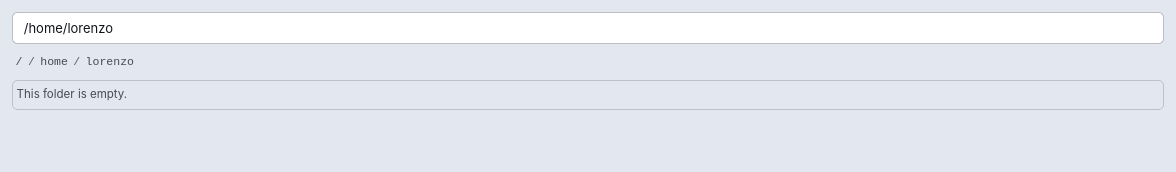
DirectoryPicker (SPEC §7.25 directory picker; issue #474) › typing a path and pressing Enter navigates there directly
Step 1. Replace the text in the field with test id "directory-picker-input" with "/etc" → {"x": 588, "y": 28}, box [12,12,1164,44]
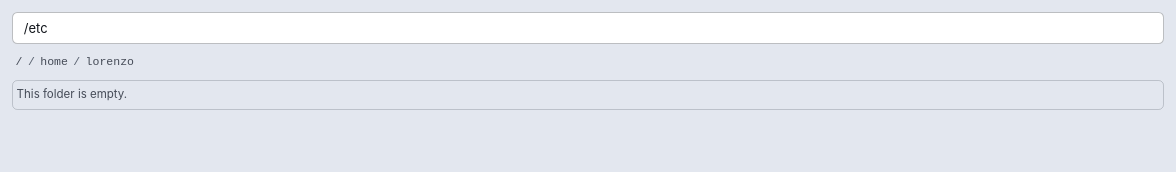
Step 2. Press Enter in the field with test id "directory-picker-input", box [12,12,1164,44]
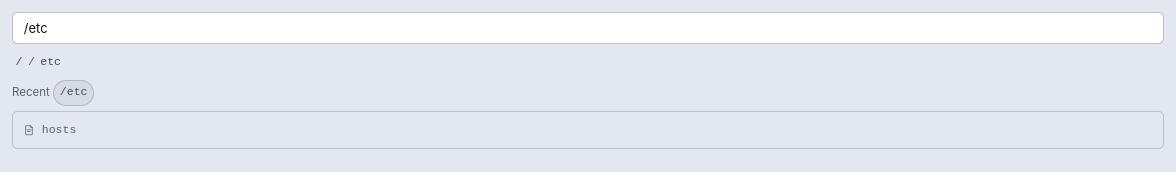
Expected: the text "hosts" is shown, [42,120,76,141]
